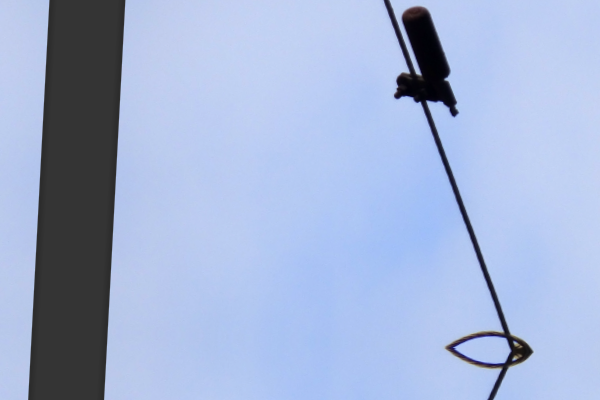damper_defect: (392, 3, 464, 122)
